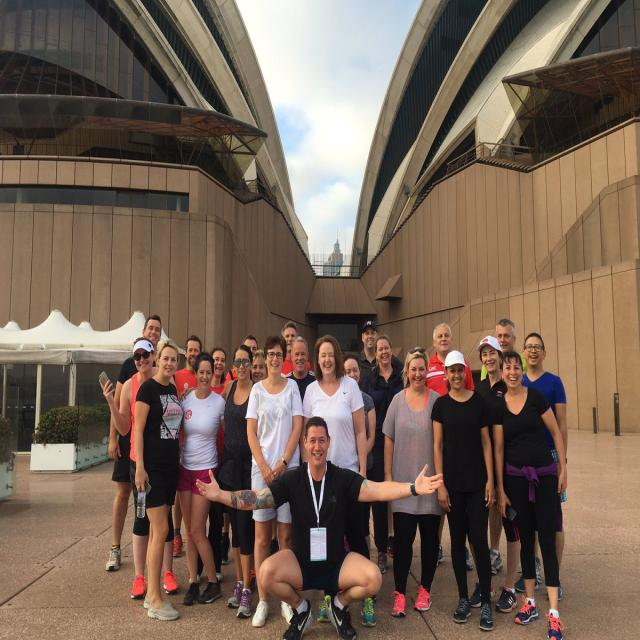body: (195, 415, 444, 639), (297, 332, 377, 629), (488, 348, 568, 640), (178, 342, 260, 618), (97, 336, 180, 599), (429, 348, 496, 631), (381, 344, 449, 619), (244, 333, 299, 630), (512, 330, 570, 602), (104, 314, 163, 572), (132, 338, 185, 622), (176, 352, 227, 608), (425, 323, 475, 571), (361, 334, 409, 576), (188, 345, 228, 561), (473, 334, 508, 576), (167, 334, 203, 558), (341, 352, 378, 560), (480, 317, 528, 382), (281, 335, 319, 406), (223, 333, 260, 387), (354, 319, 380, 394), (281, 318, 312, 376), (250, 348, 267, 384)
